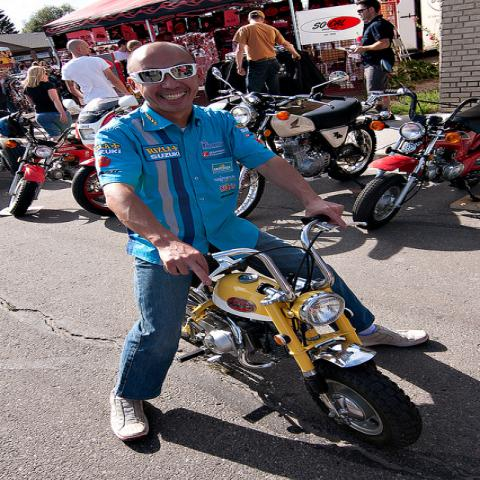motorcycle: (173, 214, 425, 448), (68, 92, 237, 219), (346, 88, 479, 234), (260, 99, 384, 182), (0, 112, 92, 218)
